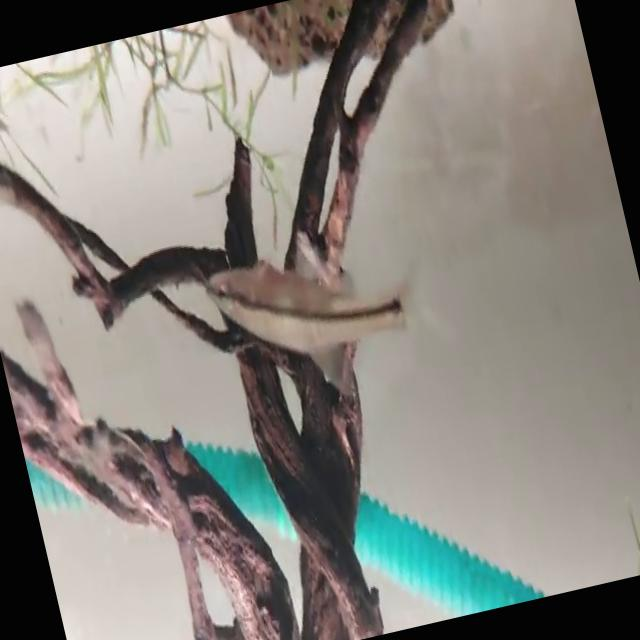Cakil Baligi: (202, 216, 449, 432)
